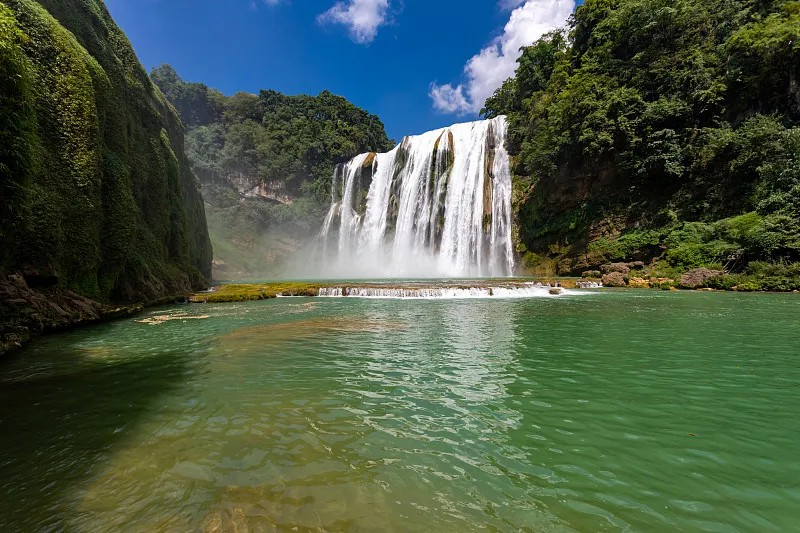Huangguoshu: (315, 115, 513, 277)
